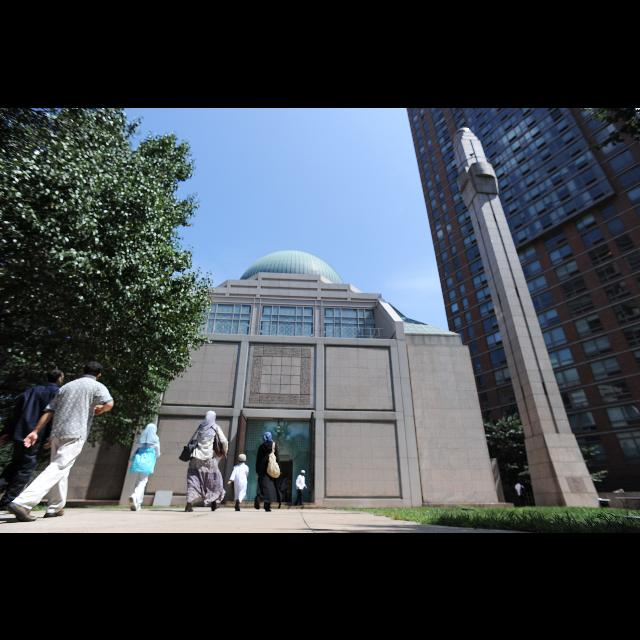head: (85, 360, 103, 380), (49, 369, 65, 385), (146, 422, 158, 436), (206, 411, 216, 422), (238, 453, 246, 463), (264, 432, 272, 441), (300, 470, 306, 476)
person: (2, 360, 118, 528), (0, 365, 68, 515), (178, 408, 230, 514), (126, 422, 162, 512), (253, 432, 284, 512), (226, 452, 252, 512), (294, 467, 310, 507)
